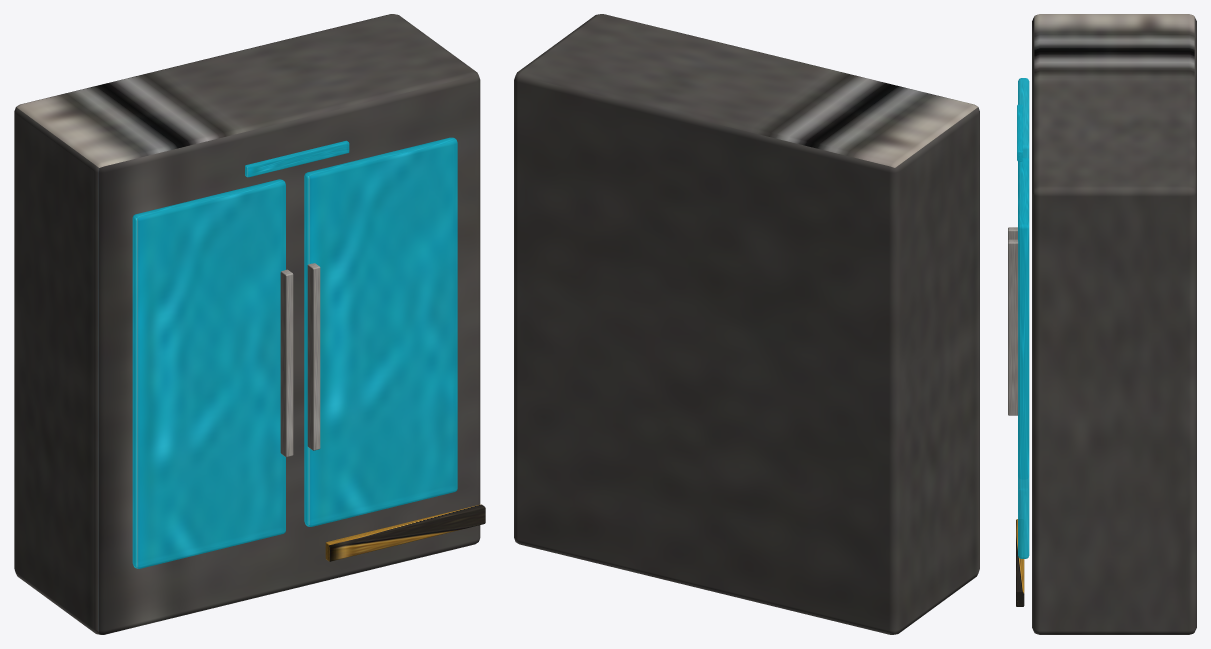
Rendered from room_l1_img2_prosthetic_parts_cabinet.glb.
3 views of the same model, side by side, from view 1: azimuth 30°, elevation 25°; view 2: azimuth 150°, elevation 25°; view 3: azimuth 270°, elevation 25° (orthographic). The views are drawn at different scales.
Parts seen in each view (by area): view 1: parts_cabinet_outer_shell, parts_cabinet_glass_door_-0.285, parts_cabinet_glass_door_0.285, parts_cabinet_hazard_kick_plate, parts_cabinet_vertical_handle_0.285, parts_cabinet_vertical_handle_-0.285, parts_cabinet_cyan_status_slot; view 2: parts_cabinet_outer_shell; view 3: parts_cabinet_outer_shell, parts_cabinet_glass_door_0.285, parts_cabinet_vertical_handle_0.285, parts_cabinet_glass_door_-0.285, parts_cabinet_hazard_kick_plate, parts_cabinet_cyan_status_slot.
Boxes of the visible parts, box(x1,y1,x2,y2) form: parts_cabinet_outer_shell: box(14, 14, 480, 634); parts_cabinet_glass_door_-0.285: box(132, 179, 285, 568); parts_cabinet_glass_door_0.285: box(304, 137, 457, 526); parts_cabinet_hazard_kick_plate: box(325, 504, 485, 561); parts_cabinet_vertical_handle_0.285: box(307, 263, 320, 450); parts_cabinet_vertical_handle_-0.285: box(280, 269, 293, 457); parts_cabinet_cyan_status_slot: box(245, 140, 349, 177); parts_cabinet_outer_shell: box(514, 14, 979, 634); parts_cabinet_outer_shell: box(1032, 14, 1196, 634); parts_cabinet_glass_door_0.285: box(1018, 157, 1029, 558); parts_cabinet_vertical_handle_0.285: box(1008, 239, 1018, 415); parts_cabinet_glass_door_-0.285: box(1018, 78, 1029, 159); parts_cabinet_hazard_kick_plate: box(1016, 519, 1024, 606); parts_cabinet_cyan_status_slot: box(1017, 104, 1022, 161).
Size of the model in its own units: 1.28 by 1.5 by 0.5725.
Materials: 6 (6 with a texture image).
